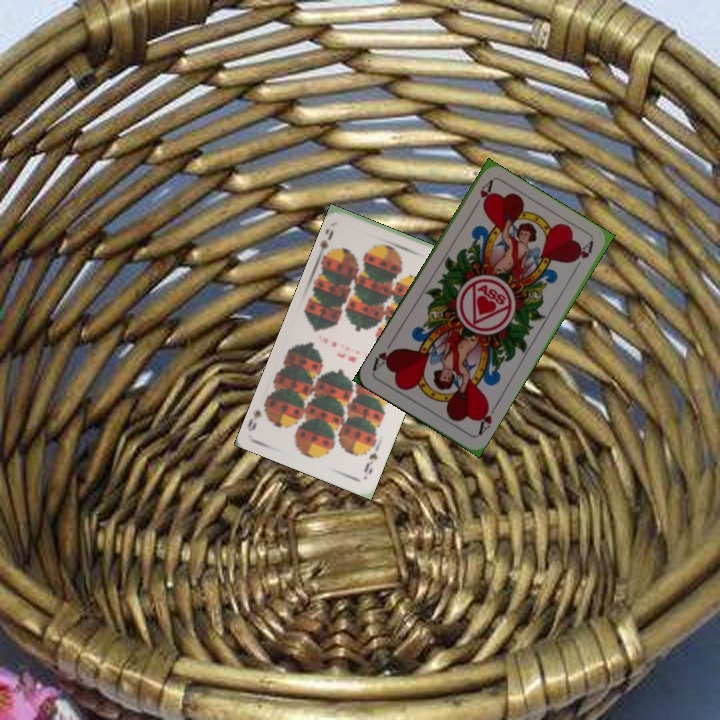HA: (468, 177, 495, 214), (474, 399, 499, 438)
S9: (360, 440, 382, 477), (314, 226, 336, 260)
